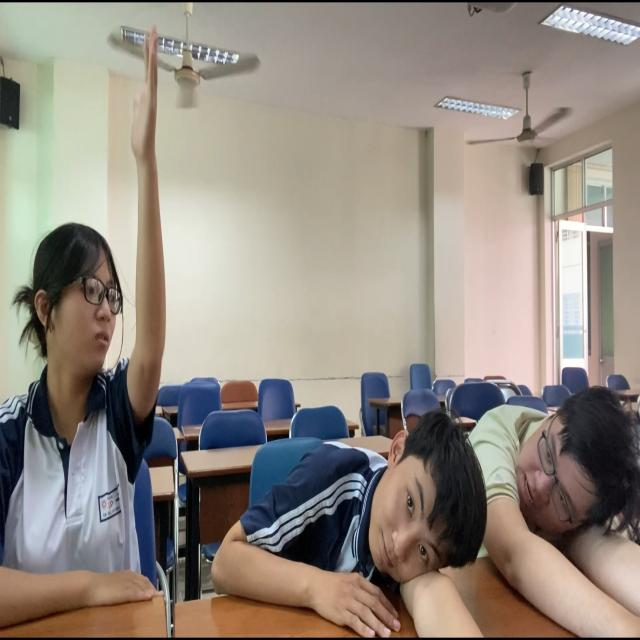raise_hand: (3, 25, 193, 640)
